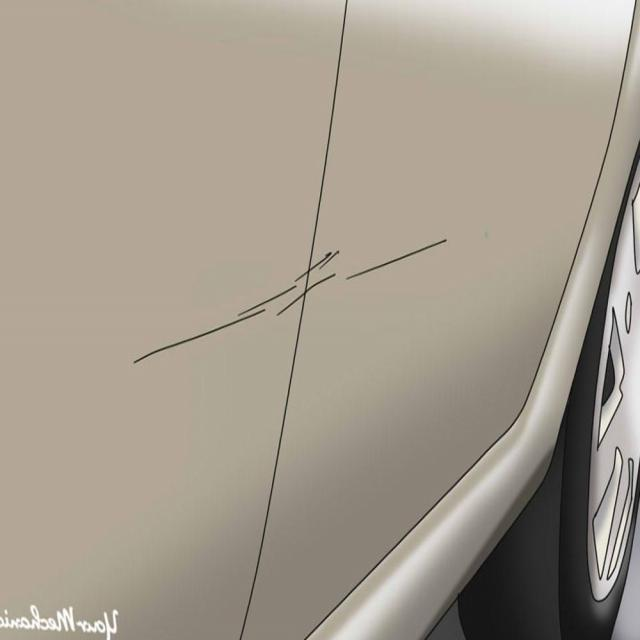scratch: (121, 241, 342, 375), (344, 221, 476, 289)
